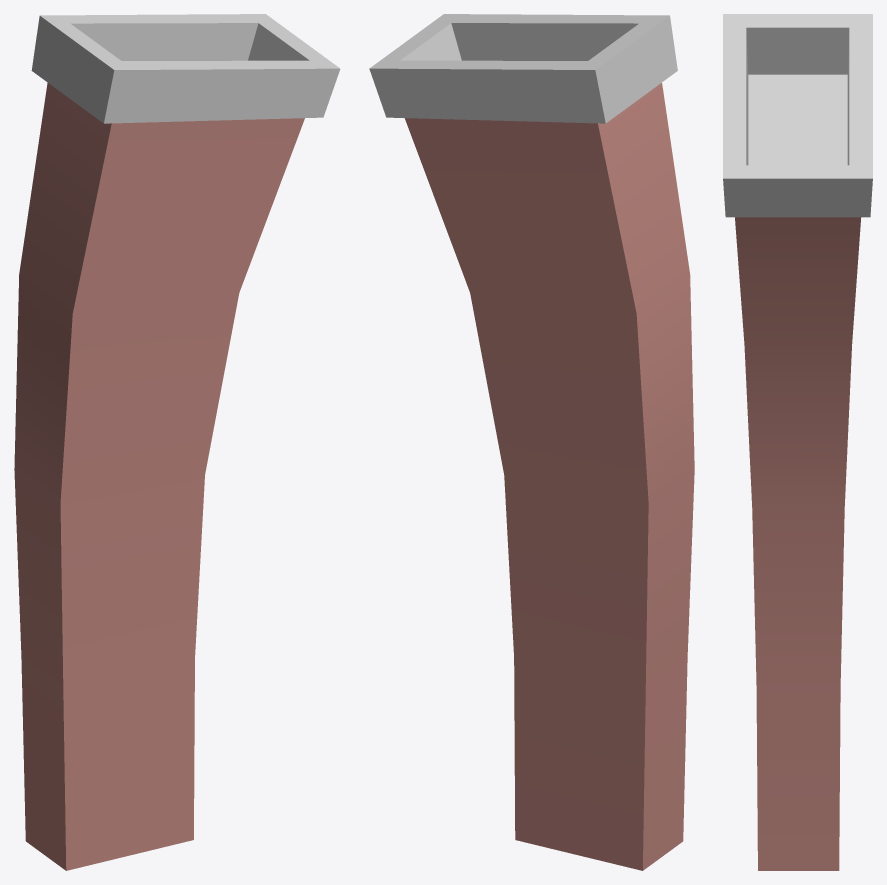
File: SM_Modular_Chimney.fbx
3 views of the same model, side by side, from view 1: azimuth 30°, elevation 25°; view 2: azimuth 150°, elevation 25°; view 3: azimuth 270°, elevation 25° (orthographic).
Visible parts, largest first — view 1: Cube.001; view 2: Cube.001; view 3: Cube.001.
Boxes of the visible parts, <box> form: Cube.001: <box>14,14,340,870</box>; Cube.001: <box>369,14,694,870</box>; Cube.001: <box>723,14,872,870</box>.
Bounding box in the file's own units: 105 × 305 × 51.23.
